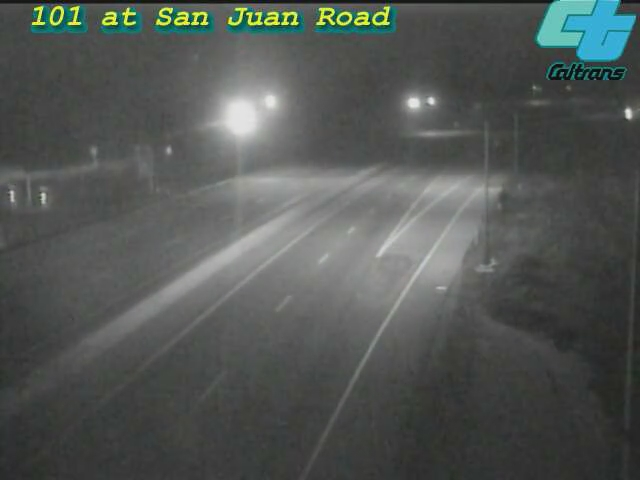vehicle: (605, 87, 640, 137)
